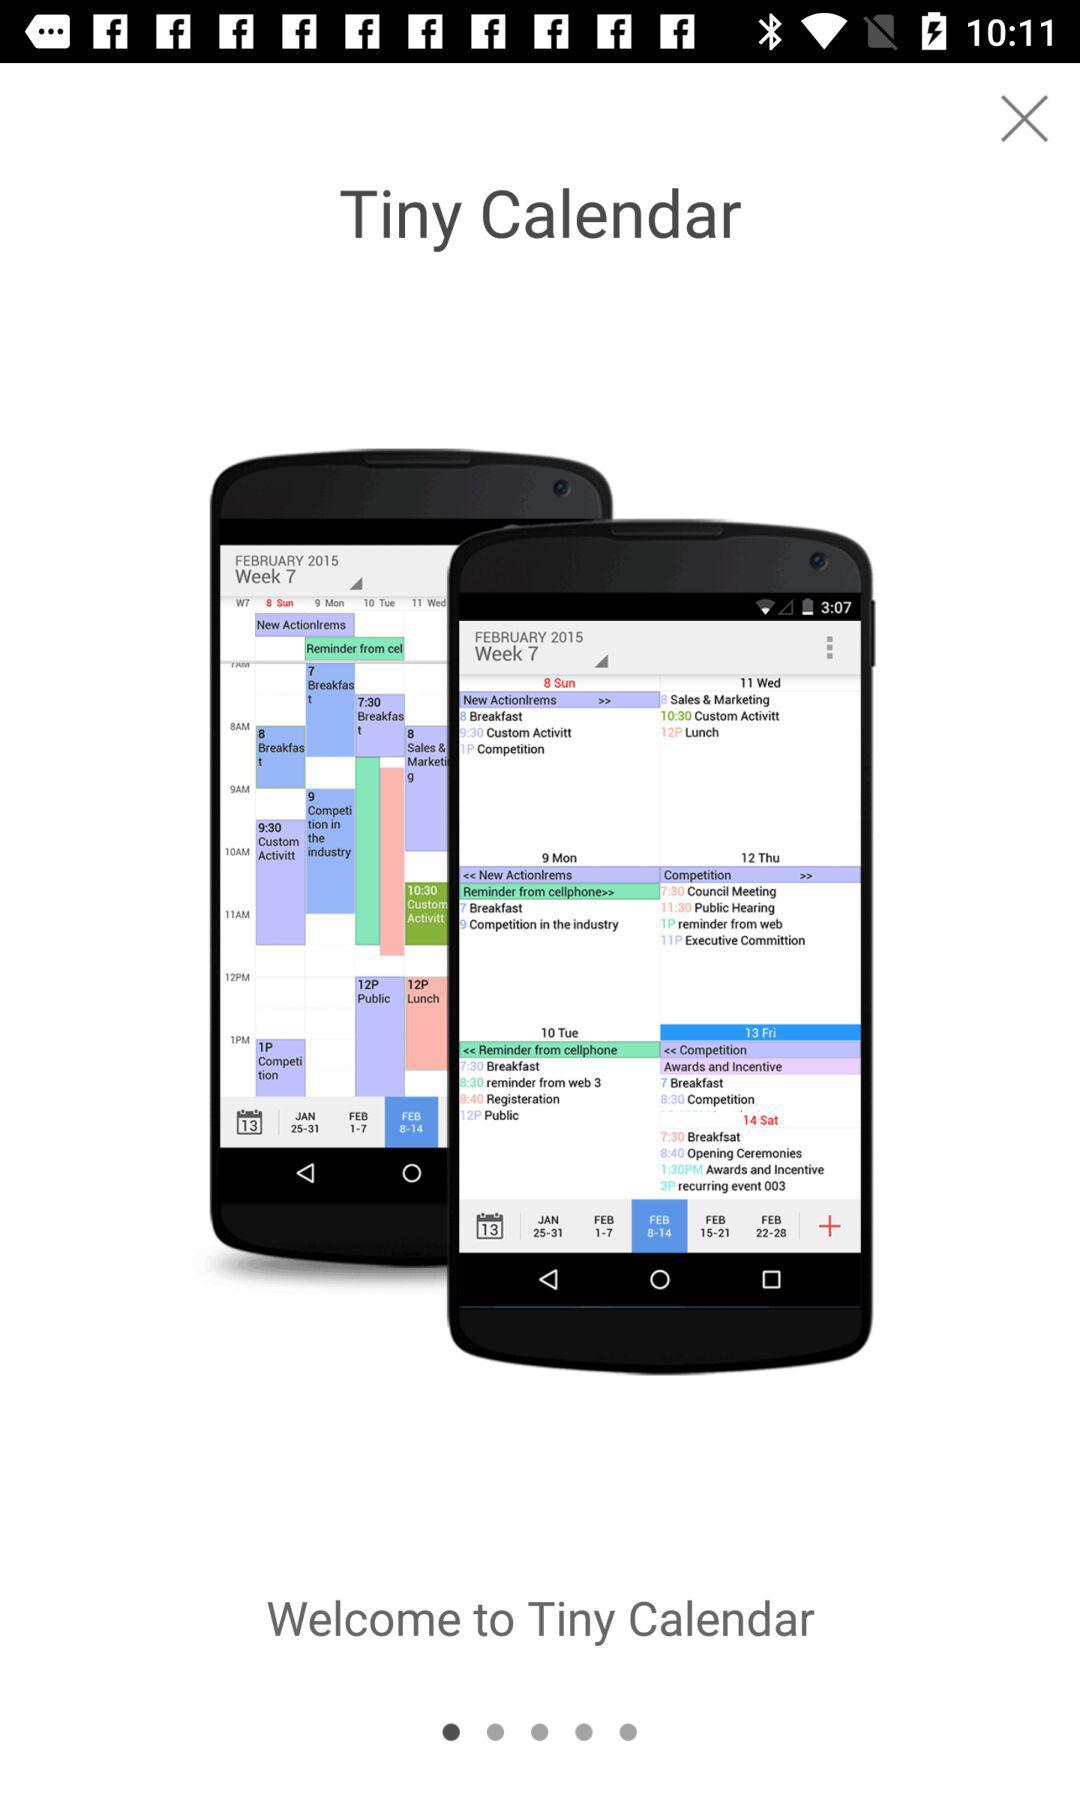Icon: (1001, 95, 1049, 144)
Image: (210, 448, 878, 1375)
PageIndicator: (441, 1721, 638, 1741)
Text: (268, 1599, 816, 1647), (340, 188, 742, 252)
UpperTaskBar: (1, 1, 1080, 64)
